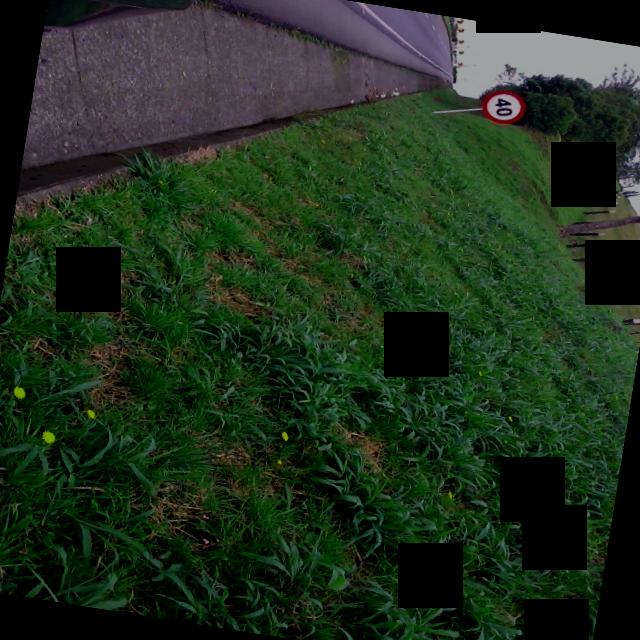DITCH: (16, 0, 462, 266)
